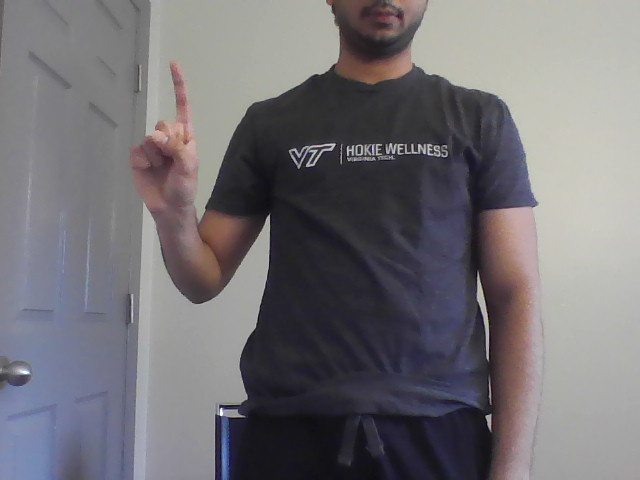one: (125, 58, 204, 209)
